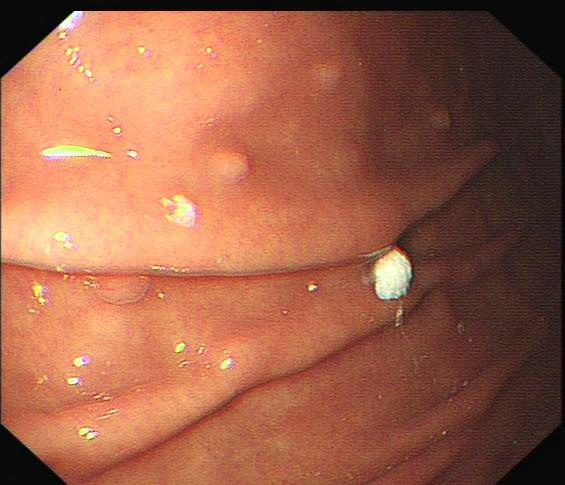Polyp: (77, 257, 162, 313), (202, 134, 264, 193)
